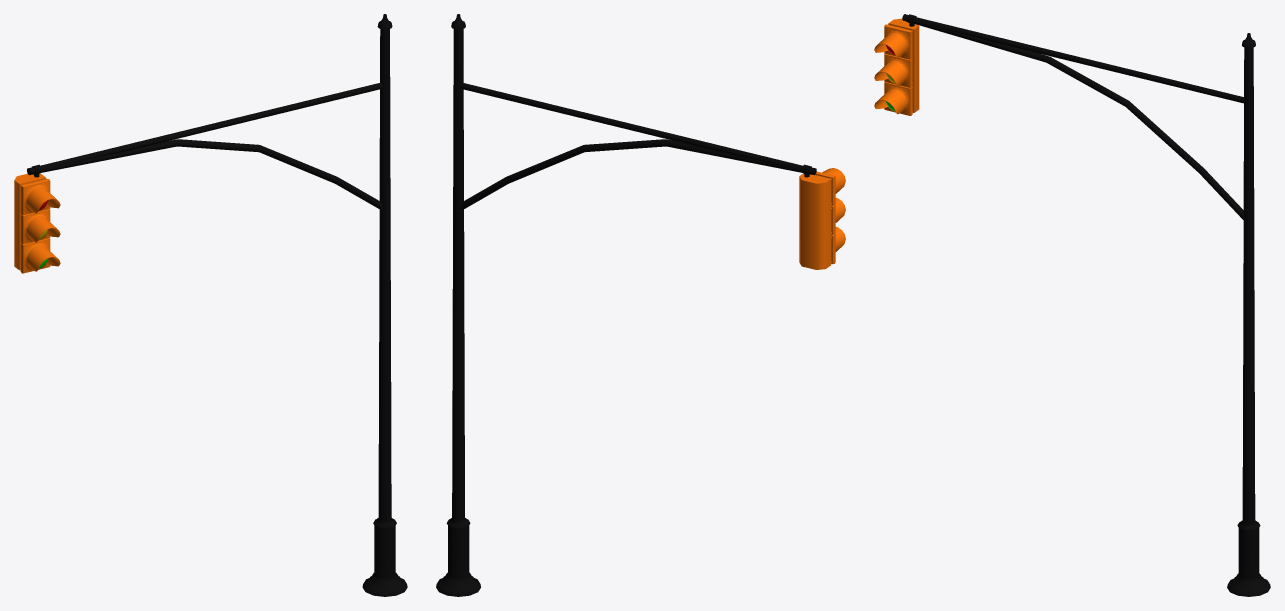
The model's file is Traffic_Light_2.fbx.
3 views of the same model, side by side, from view 1: azimuth 30°, elevation 25°; view 2: azimuth 150°, elevation 25°; view 3: azimuth 330°, elevation 25° (orthographic). The views are drawn at different scales.
Parts seen in each view (by area): view 1: Traffic_Light_B; view 2: Traffic_Light_B; view 3: Traffic_Light_B.
Boxes of the visible parts, left/top/right/bottom form: Traffic_Light_B: left=14, top=14, right=407, bottom=596; Traffic_Light_B: left=436, top=14, right=845, bottom=596; Traffic_Light_B: left=874, top=14, right=1270, bottom=596.
Size of the model in its own units: 81.2 by 114 by 11.66.
